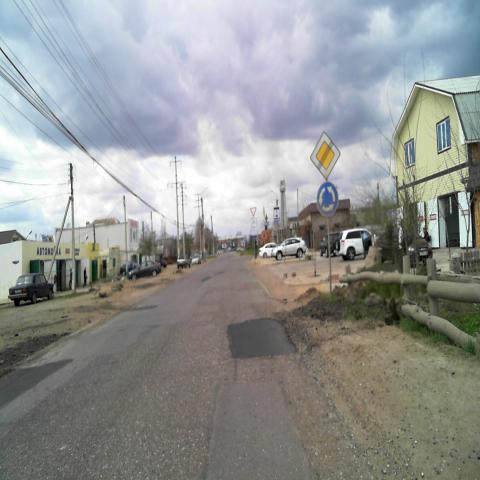4_3: (317, 181, 338, 218)
